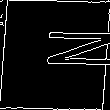N_W: (7, 34, 103, 76)
